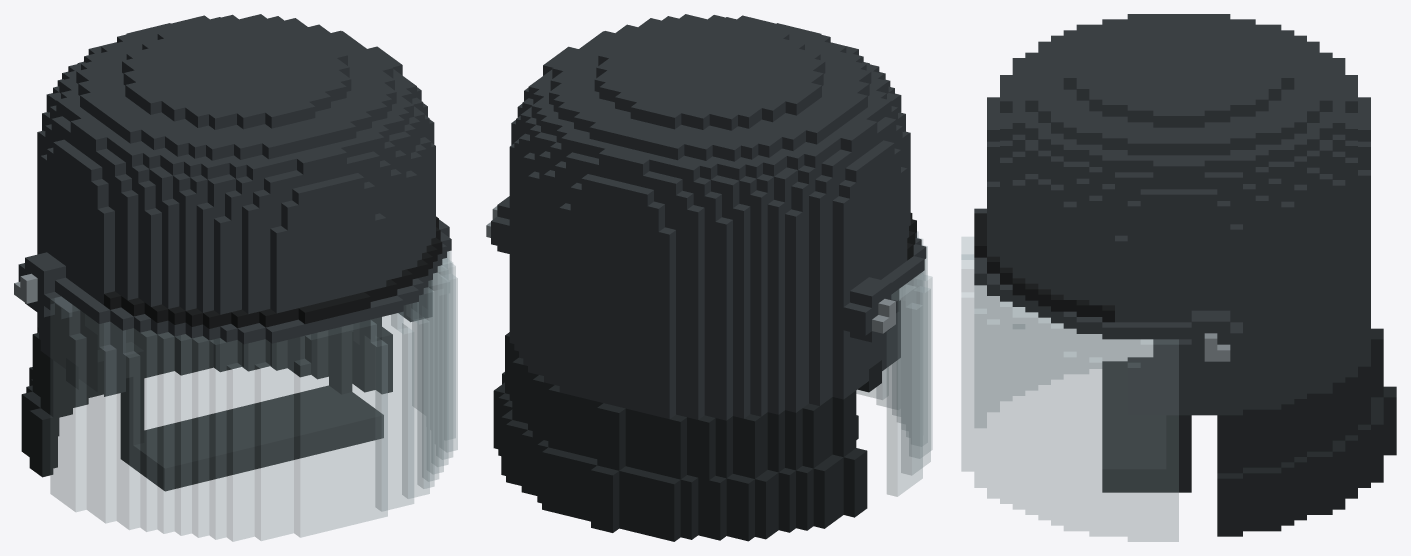
The model's file is riot_helmet.glb.
3 views of the same model, side by side, from view 1: azimuth 30°, elevation 25°; view 2: azimuth 150°, elevation 25°; view 3: azimuth 270°, elevation 25° (orthographic).
Parts seen in each view (by area): view 1: helmet:compound; view 2: helmet:compound; view 3: helmet:compound.
Boxes of the visible parts, left/top/right/bottom form: helmet:compound: left=14, top=14, right=457, bottom=541; helmet:compound: left=486, top=14, right=932, bottom=541; helmet:compound: left=961, top=14, right=1396, bottom=541.
Size of the model in its own units: 0.36 by 0.33 by 0.34.
